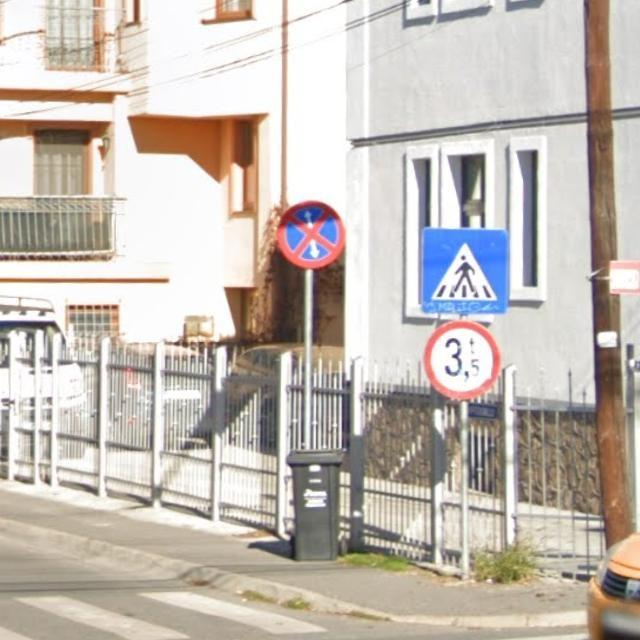forb_waiting: (276, 201, 348, 272)
info_crosswalk: (422, 226, 509, 315)
